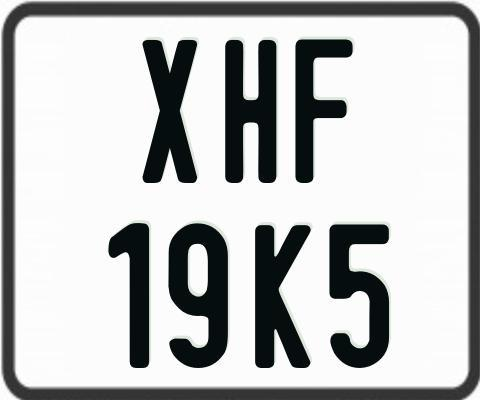1: (106, 221, 147, 371)
5: (326, 224, 387, 369)
9: (168, 221, 233, 366)
F: (294, 36, 353, 182)
H: (225, 39, 282, 182)
K: (252, 223, 313, 370)
X: (143, 39, 202, 183)
